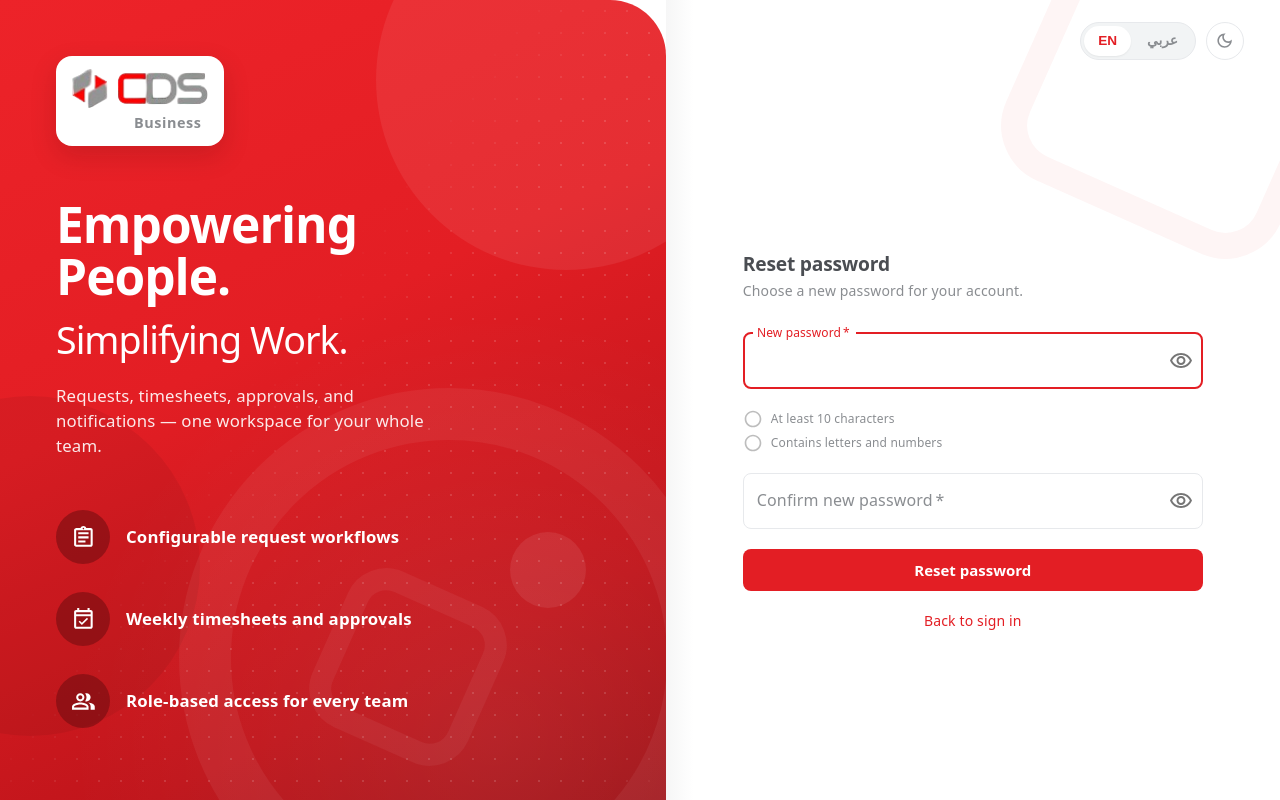
Test: reset password › rejects mismatched confirmation
This screenshot has width=1280, height=800.
expect the button "Reset password" is shown: met, box [743,549,1203,591]
Type "N3w!SecurePass99" into the password field labelled "New password *" at (948, 361), box [743,333,1153,389]
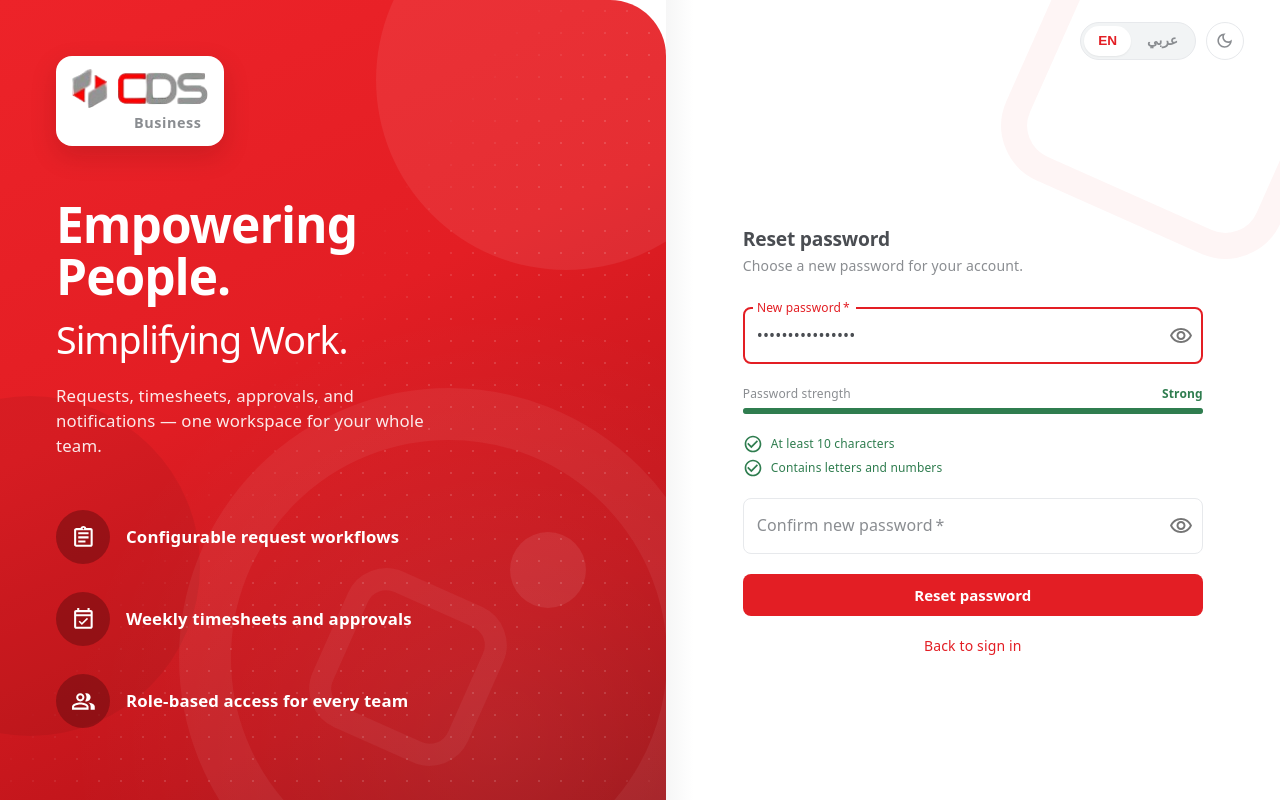
Type "Different123!" into the password field labelled "Confirm new password *" at (948, 526), box [743,498,1153,554]
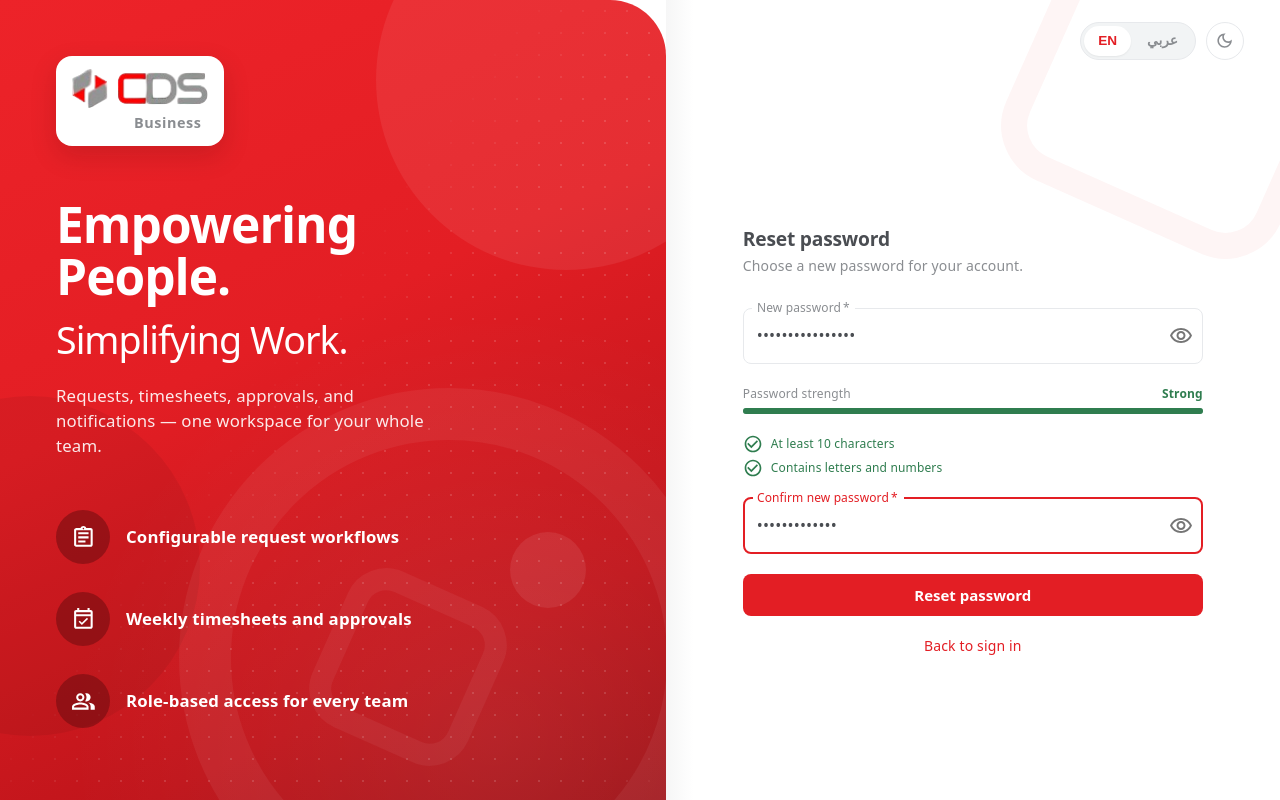
Click the button "Reset password" at (973, 595), box [743,574,1203,616]
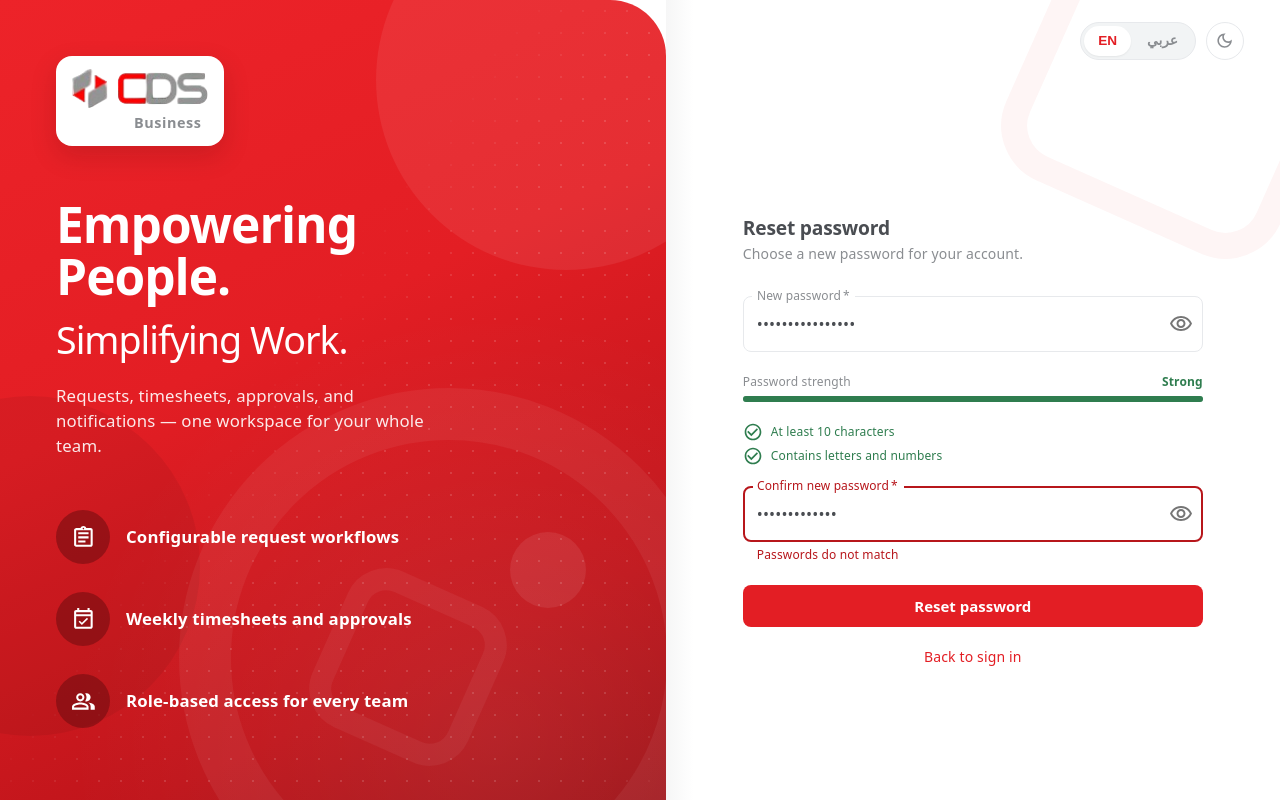
expect the text "Passwords do not match" is shown: met, box [757,546,899,563]
